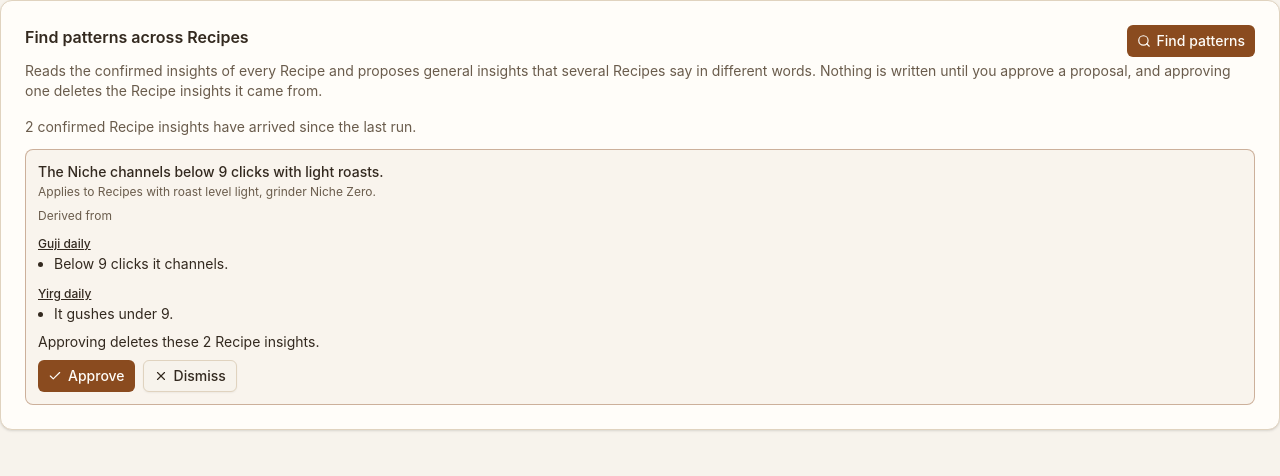
Scenario: answering a proposal › says in words why an approval failed, naming no input
Click the button "Approve" at (86, 376), box [38, 360, 135, 392]
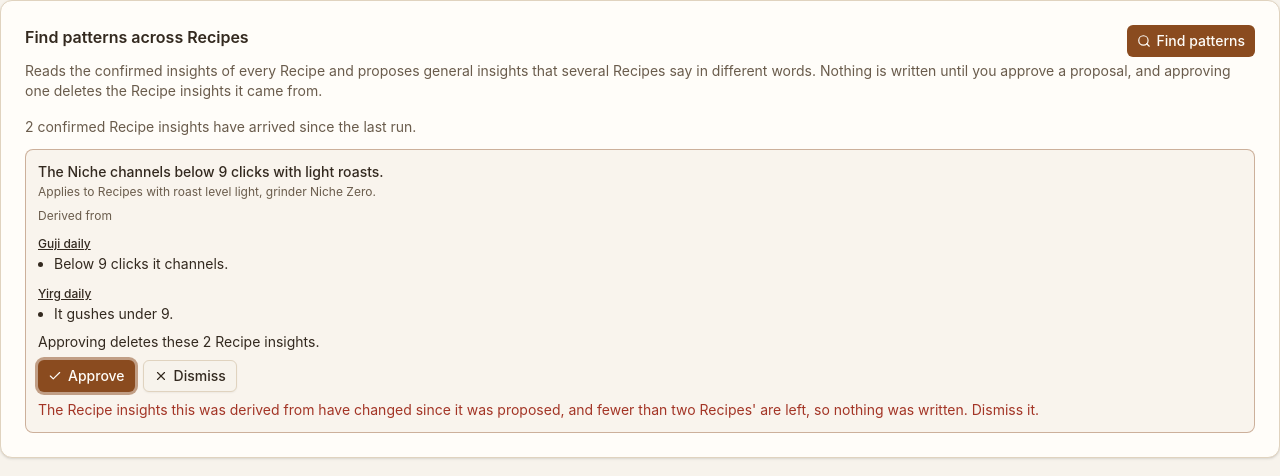
Result: the message with test id "pattern-error" shows "fewer than two Recipes" at [38, 401, 1039, 418]
